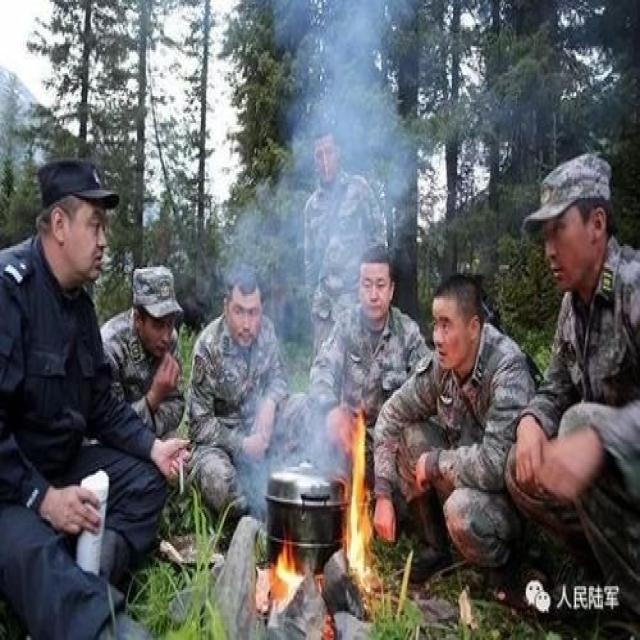Fire: (342, 409, 376, 588), (270, 538, 304, 613)
Smoke: (220, 2, 415, 408), (228, 414, 338, 538)
